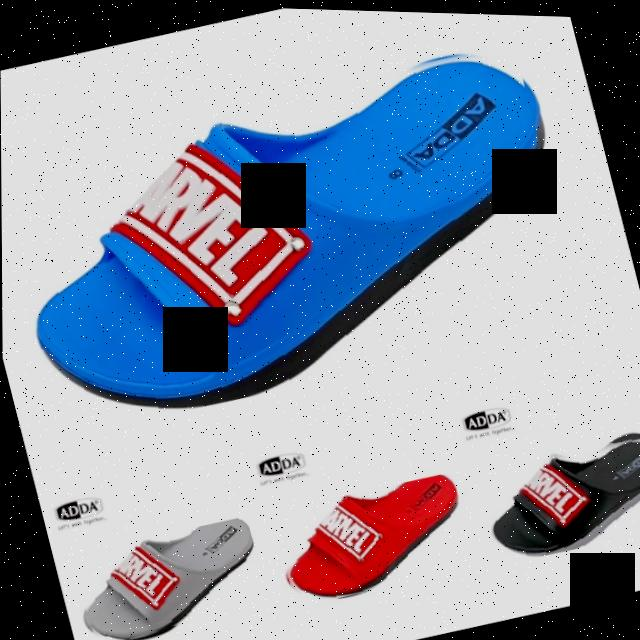shoe: (0, 21, 585, 450), (266, 464, 475, 612), (68, 510, 269, 640), (469, 416, 640, 566)
